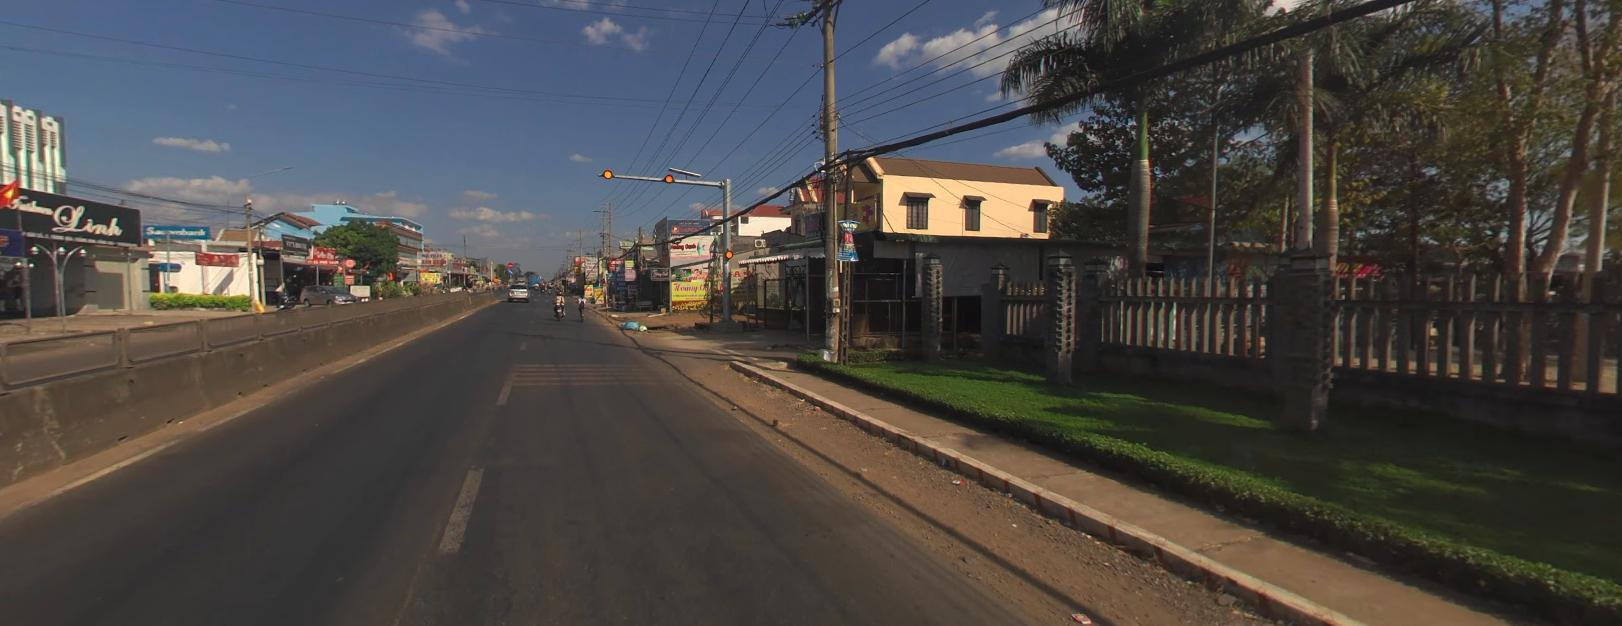Cam nguoc chieu: (507, 261, 513, 266)
Hieu lenh: (507, 267, 513, 272)
